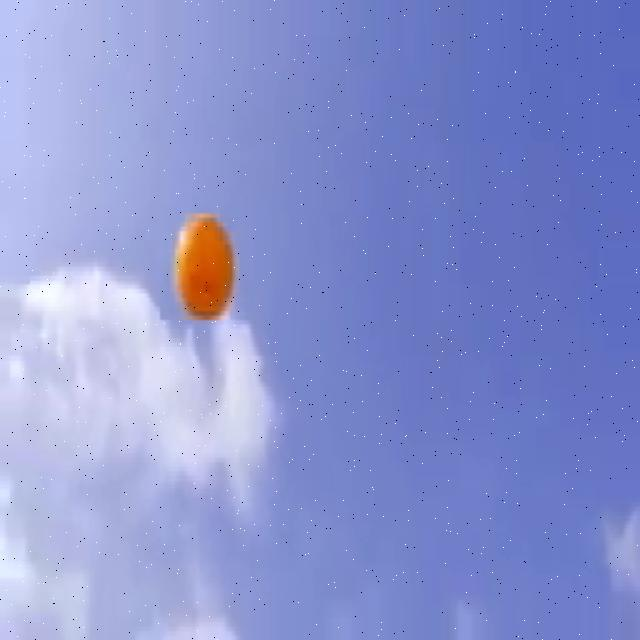red: (173, 212, 235, 317)
